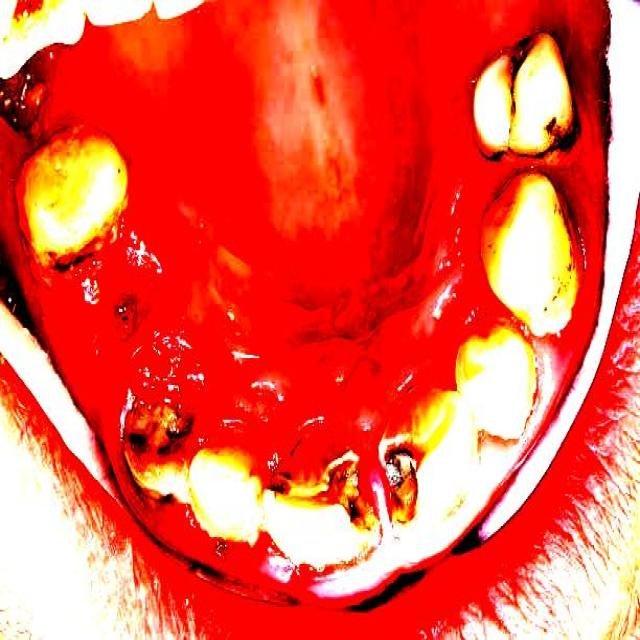caries: (268, 449, 377, 560), (124, 403, 190, 506), (382, 438, 436, 538), (493, 34, 544, 128)
